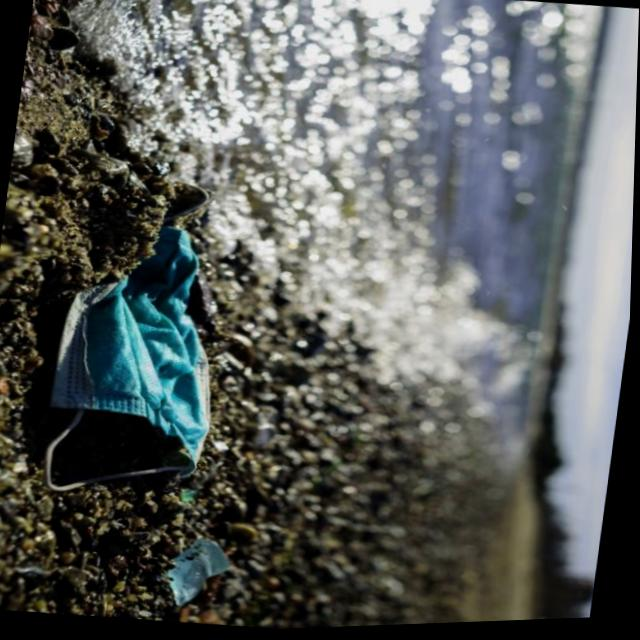Mask: (37, 169, 247, 509)
